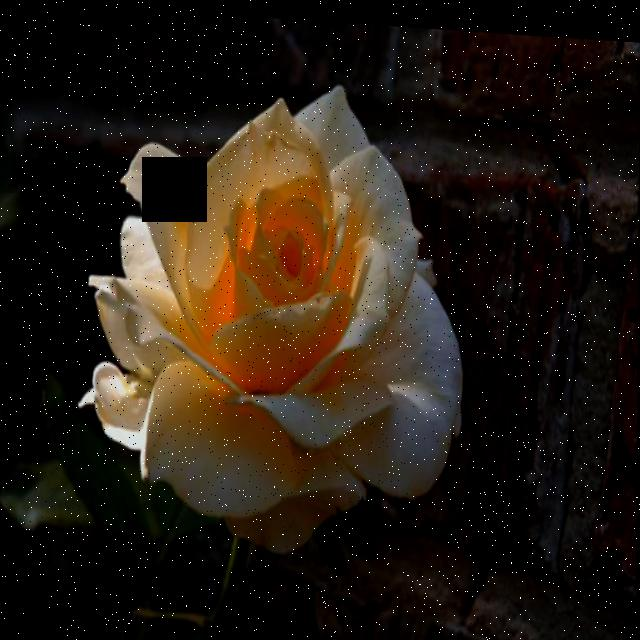rose: (78, 58, 473, 601)
